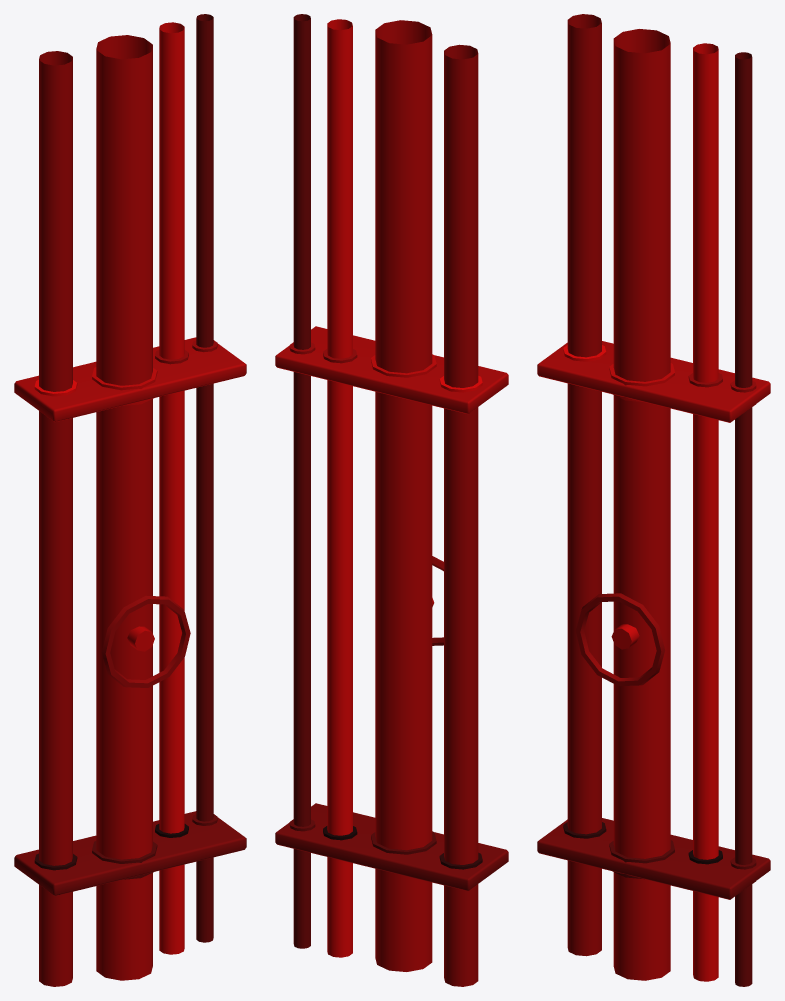
File: pipe_cluster.glb
The picture shows the model from 3 angles, left to right: view 1: azimuth 30°, elevation 25°; view 2: azimuth 150°, elevation 25°; view 3: azimuth 330°, elevation 25°; orthographic projection.
Visible parts, largest first — view 1: pipe_cluster; view 2: pipe_cluster; view 3: pipe_cluster.
Boxes of the visible parts, bbox=[...] form: pipe_cluster: bbox=[14, 14, 246, 986]; pipe_cluster: bbox=[275, 14, 508, 986]; pipe_cluster: bbox=[537, 14, 770, 986].
Bounding box in the file's own units: 0.77 × 3.5 × 0.3221.
